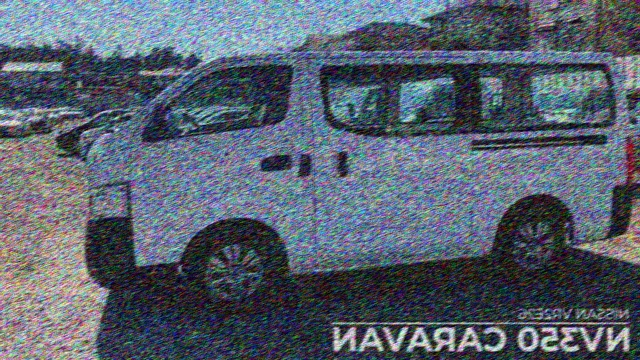van: (82, 48, 631, 313)
